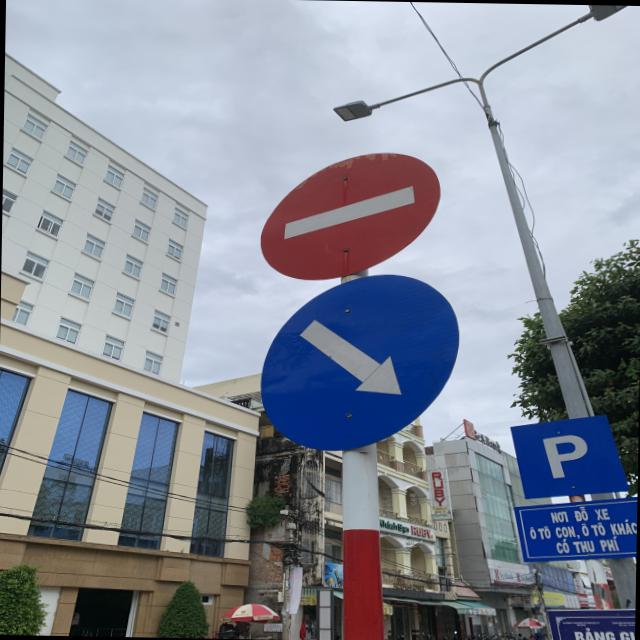Cam_Di_Nguoc_Chieu: (258, 148, 444, 285)
Chi_Huong_Di_Phai: (260, 274, 459, 448)
